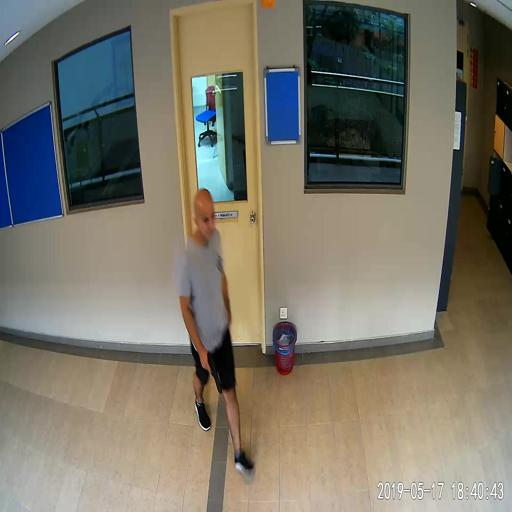pistol: (200, 351, 221, 392)
